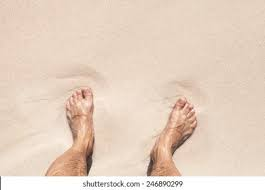Feet: (150, 97, 199, 167), (66, 86, 94, 156)
